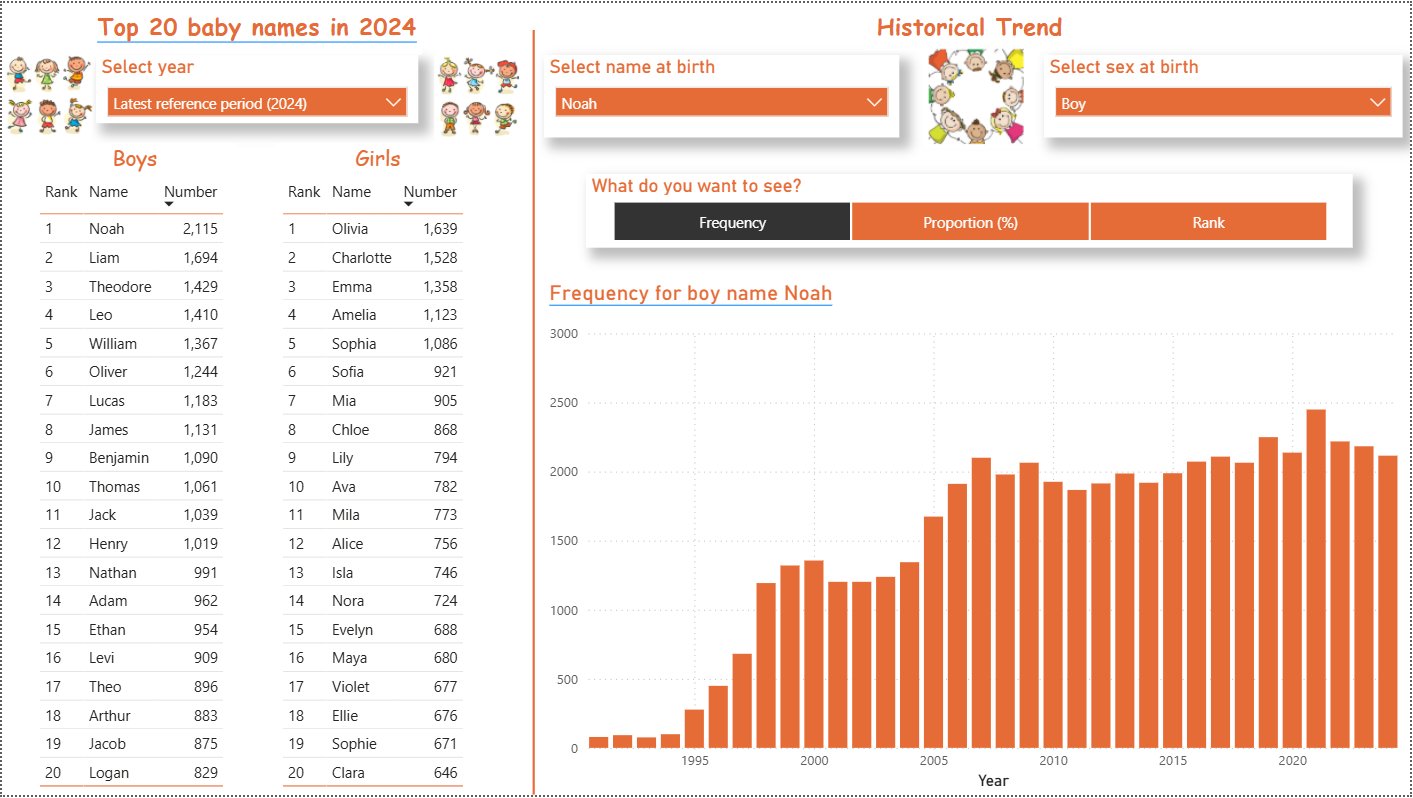

What the dashboard file says about the page in this screenshot:
{"tool":"powerbi","page":{"name":"Baby Names Dashboard","canvas":[1280,720],"ordinal":0},"visuals":[{"type":"slicer","title":"Select year","fields":{"Values":["Baby Names.Latest Reference"]},"box":[85,47,293,62],"z":0},{"type":"slicer","title":"Select name at birth","fields":{"Values":["Baby Names.First name at birth"]},"box":[493,47,323,75],"z":1000},{"type":"slicer","title":"Select sex at birth","fields":{"Values":["Baby Names.Sex at birth"]},"box":[949,47,326,75],"z":2000},{"type":"tableEx","title":"Boys","fields":{"Values":["Sum(Baby Names.Rank)","Baby Names.First name at birth","Sum(Baby Names.Frequency)"]},"box":[28,127,185,593],"z":3000},{"type":"tableEx","title":"Girls","fields":{"Values":["Sum(Baby Names.Rank)","Baby Names.First name at birth","Sum(Baby Names.Frequency)"]},"box":[249,127,185,593],"z":4000},{"type":"clusteredColumnChart","title":"Frequency","fields":{"Y":["Baby Names.Frequency Aggregate"],"Category":["DimYear.Year"]},"box":[493.1,286,786.9,433.8],"z":5000},{"type":"textbox","box":[784,0,192,43],"z":6000},{"type":"image","box":[0,46.7,84.6,75.9],"z":7000},{"type":"image","box":[391,47,86,76],"z":8000},{"type":"image","box":[837,35,100,100],"z":9000},{"type":"shape","box":[473.7,24.3,19.5,695.4],"z":10000},{"type":"textbox","box":[82,0,300,47],"z":11000},{"type":"slicer","title":"What do you want to see?","fields":{"Values":["Parameter.Parameter"]},"box":[531.1,155.6,697.4,67.1],"z":12000},{"type":"textbox","box":[493.1,247.1,773.3,38.9],"z":13000}]}

Visuals, with their boxes in screenshot pixels (x1, y1, x2, y2), scaled from the page's 1280x720 canvas onto the 1413x798 screenshot:
"Select year" slicer: crop(94, 52, 417, 121)
"Select name at birth" slicer: crop(544, 52, 901, 135)
"Select sex at birth" slicer: crop(1048, 52, 1407, 135)
"Boys" tableEx: crop(31, 141, 235, 797)
"Girls" tableEx: crop(275, 141, 479, 797)
"Frequency" clusteredColumnChart: crop(544, 317, 1412, 797)
textbox: crop(865, 0, 1077, 48)
image: crop(0, 52, 93, 136)
image: crop(432, 52, 527, 136)
image: crop(924, 39, 1034, 150)
shape: crop(523, 27, 544, 797)
textbox: crop(91, 0, 422, 52)
"What do you want to see?" slicer: crop(586, 172, 1356, 247)
textbox: crop(544, 274, 1398, 317)
